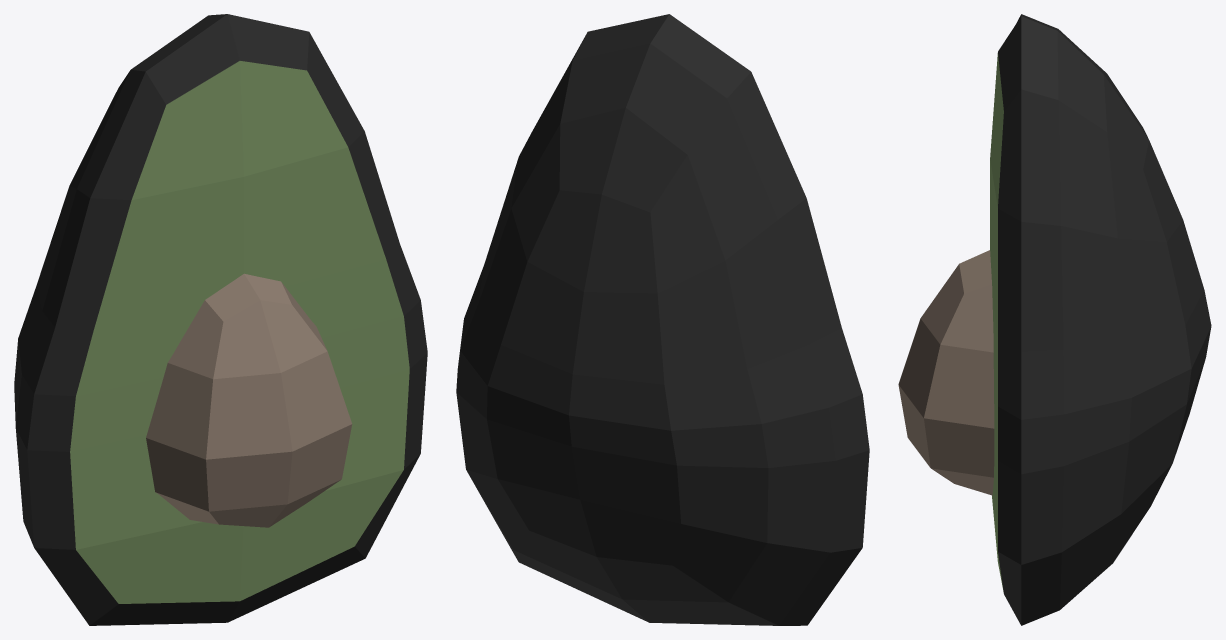
Rendered from Avocado.glb.
3 views of the same model, side by side, from view 1: azimuth 30°, elevation 25°; view 2: azimuth 150°, elevation 25°; view 3: azimuth 270°, elevation 25° (orthographic). The views are drawn at different scales.
Parts seen in each view (by area): view 1: Avocado; view 2: Avocado; view 3: Avocado.
Boxes of the visible parts, x1,y1,x2,y2 form: Avocado: (14,14,427,625); Avocado: (456,14,869,625); Avocado: (898,14,1211,625).
Size of the model in its own units: 0.0828 by 0.1203 by 0.0594.
